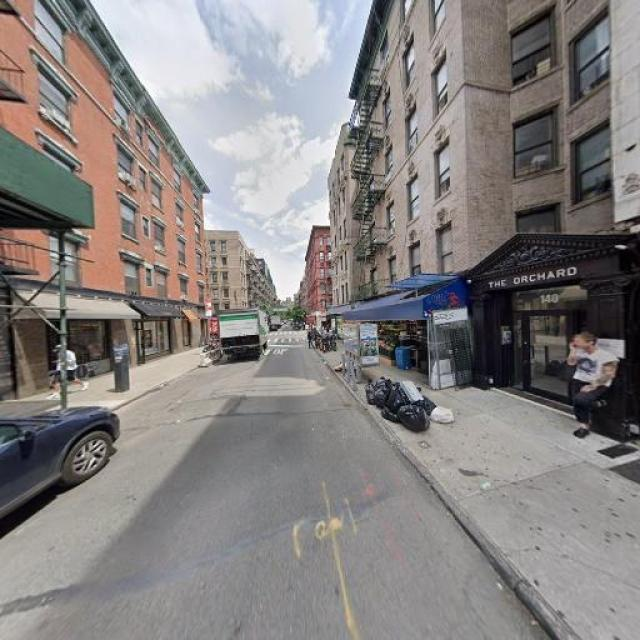Building: (364, 1, 640, 440), (1, 1, 204, 417), (333, 110, 349, 340)
